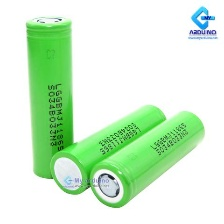battery: (84, 107, 213, 211), (47, 101, 169, 197), (21, 12, 77, 182)
